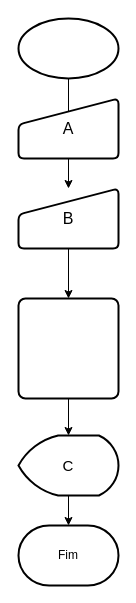
Image size: 136x603. Some labels were removed from this diagram. The box of each missing label's shape, as (x1, y1, x2, y2) in pixels:
C = A + B: (17, 297, 119, 399)
Início: (17, 17, 119, 79)
